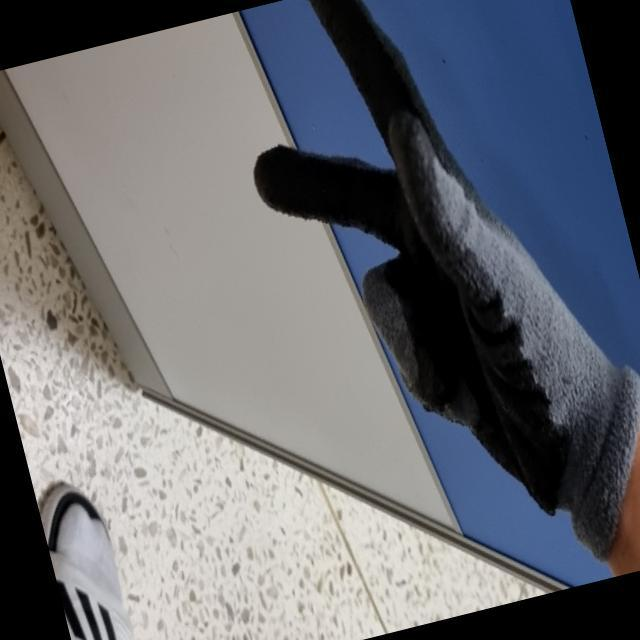Gloves: (250, 0, 638, 566)
